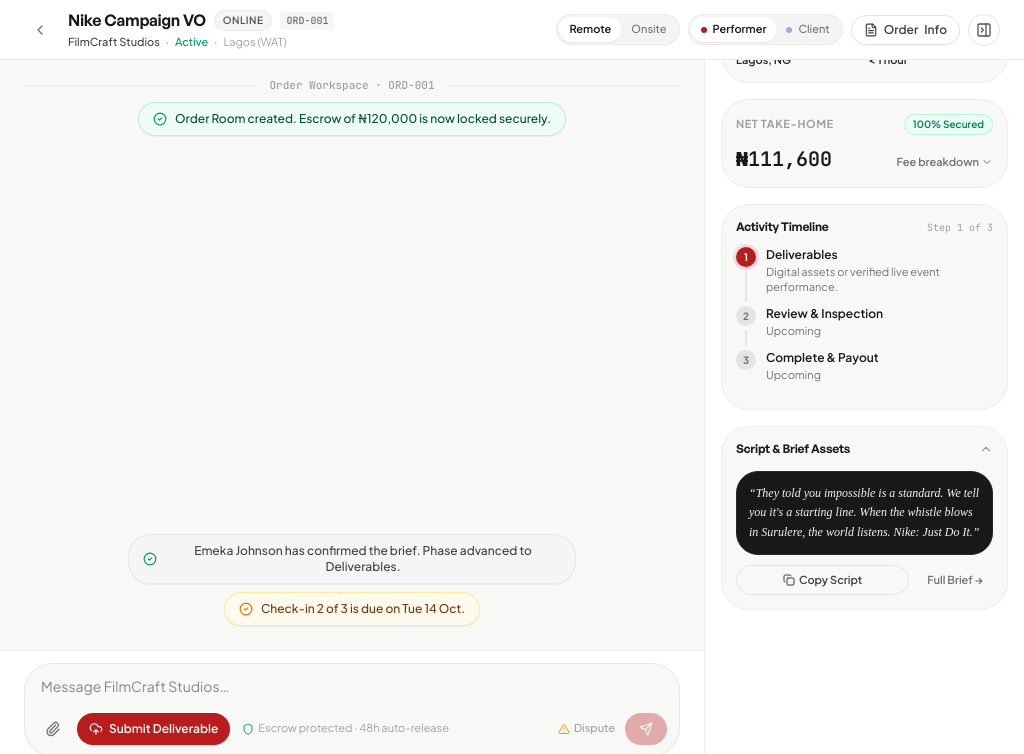
Scenario: OrderRoom — Senior FAANG UX/UI Redesign (Performer & Client Views) › renders unified multi-row composer with integrated Submit Deliverable action for Performer and switches cleanly to Client role
(page scrolled)
Expected: the text "Order Room created" is shown, [175,110,551,126]
Expected: the button "Submit Deliverable" is shown, [77,712,230,744]
Note: Switch to Client role via header switcher
Click the button "Client" at (808, 30), box [776,17,840,42]
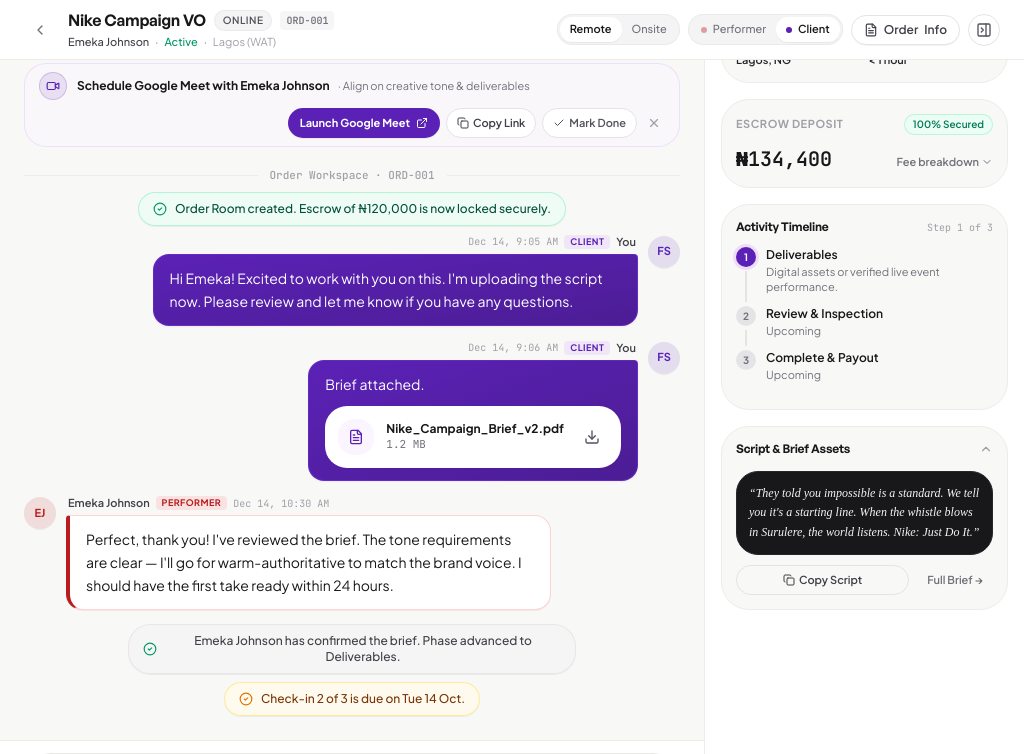
Expected: the heading "Performer Attendance Verification" is shown, [136,18,339,38]
Expected: the text "Schedule Google Meet with Emeka Johnson" is shown, [77,78,330,94]
Expected: the link "Launch Google Meet" is shown, [288,108,440,138]
